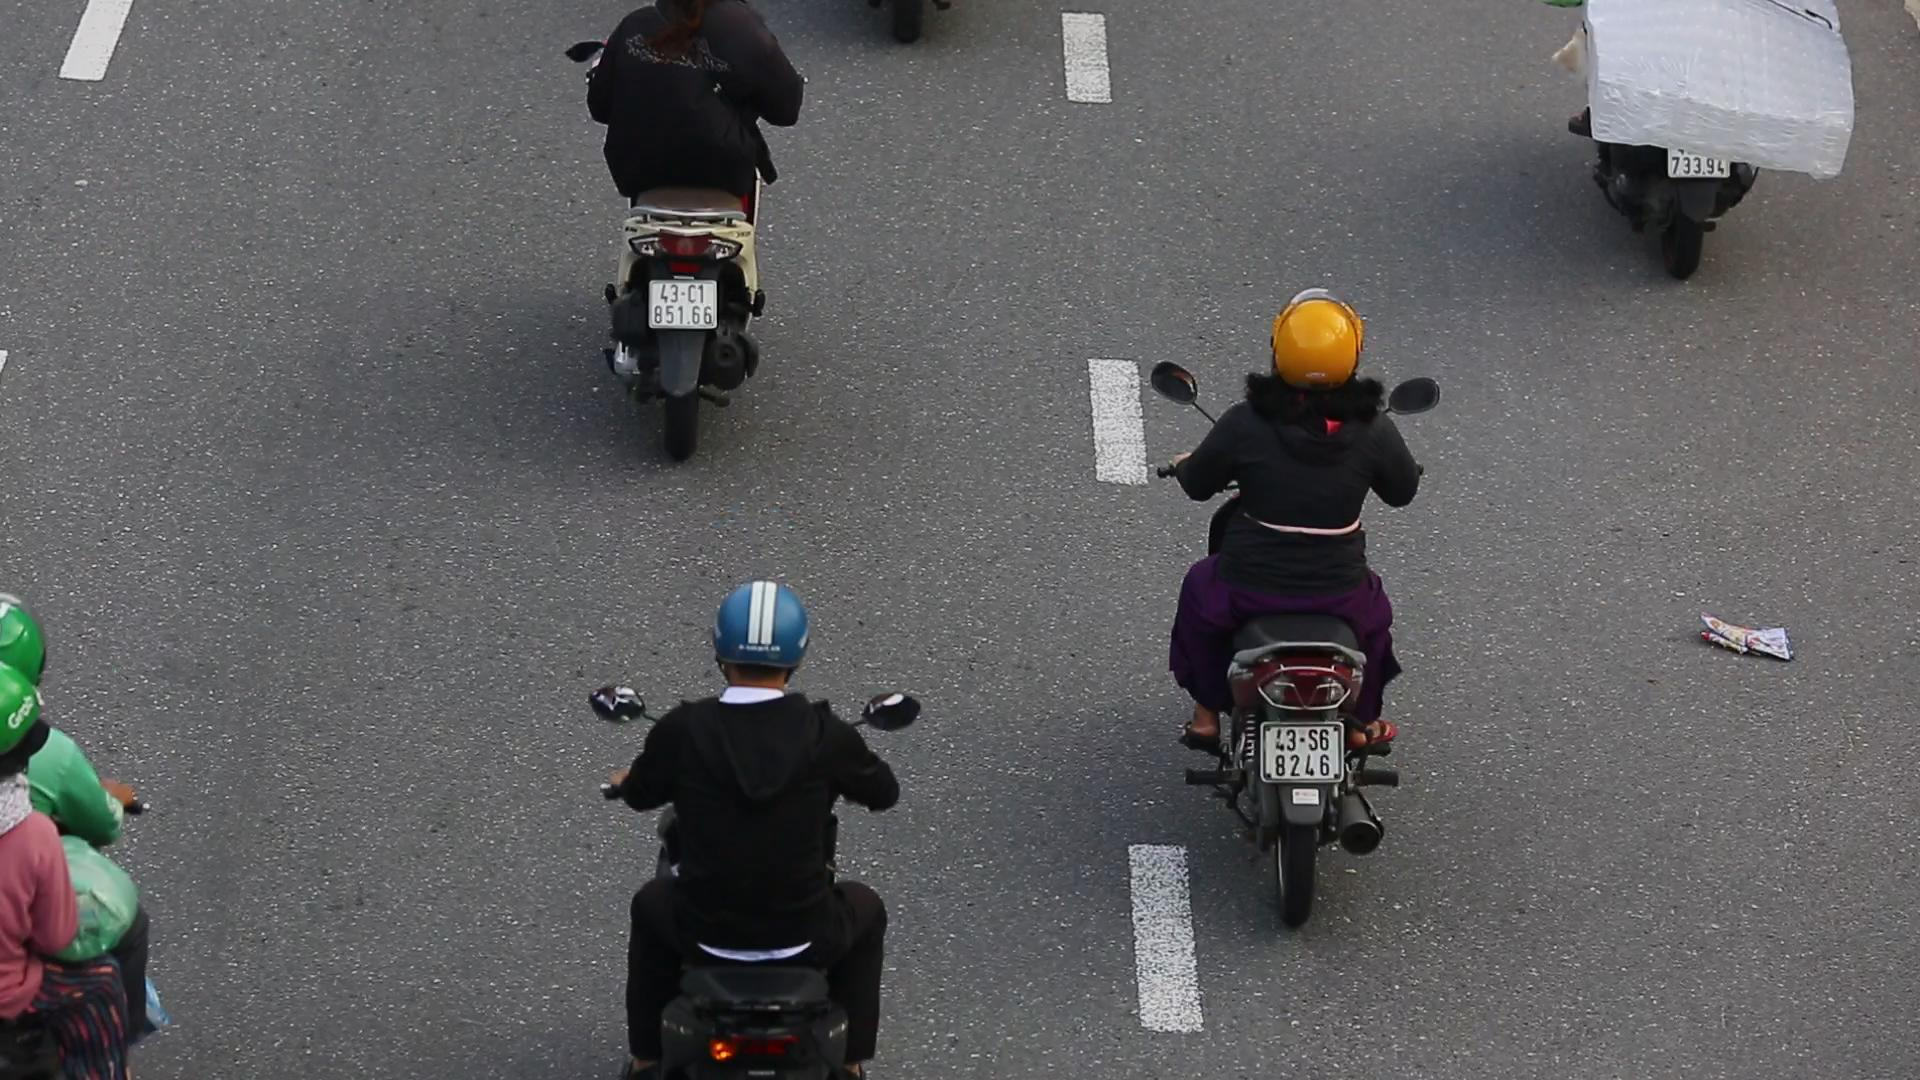motobike: (1130, 278, 1449, 932)
